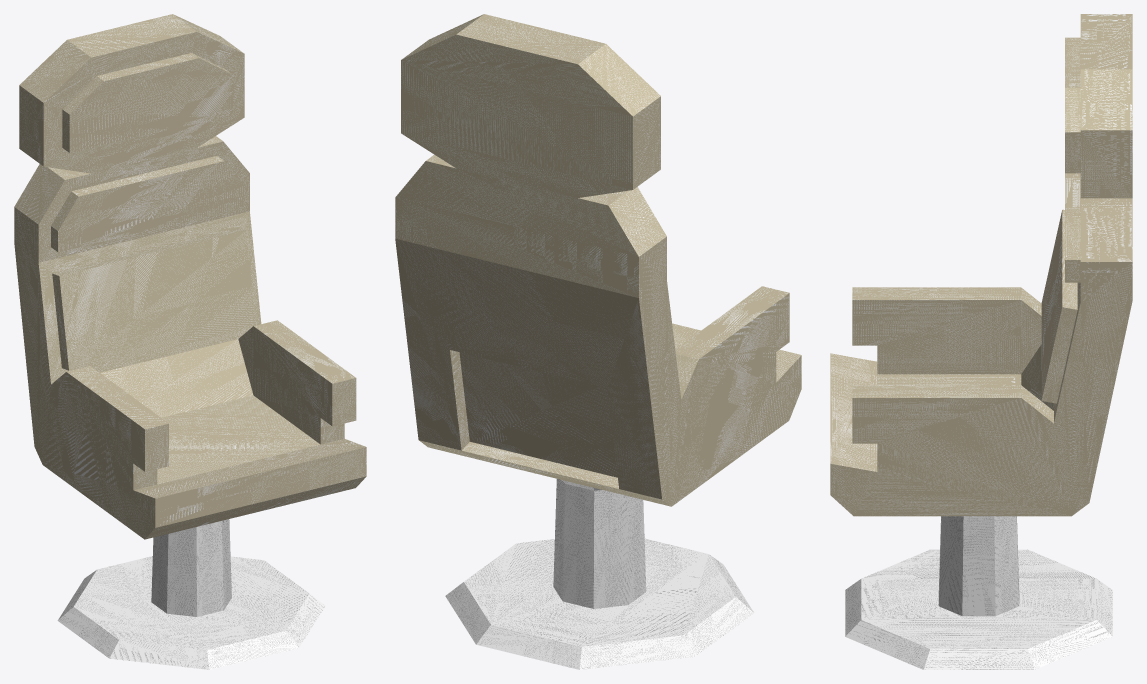
Rendered from scifi_chair_metal_02.fbx.
The picture shows the model from 3 angles, left to right: view 1: azimuth 30°, elevation 25°; view 2: azimuth 150°, elevation 25°; view 3: azimuth 270°, elevation 25°; orthographic projection. The views are drawn at different scales.
Visible parts, largest first — view 1: Model; view 2: Model; view 3: Model.
Boxes of the visible parts, x1=… form: Model: x1=14, y1=14, x2=366, y2=669; Model: x1=395, y1=14, x2=801, y2=669; Model: x1=830, y1=14, x2=1132, y2=669.
Size of the model in its own units: 81.04 by 191 by 91.61.
